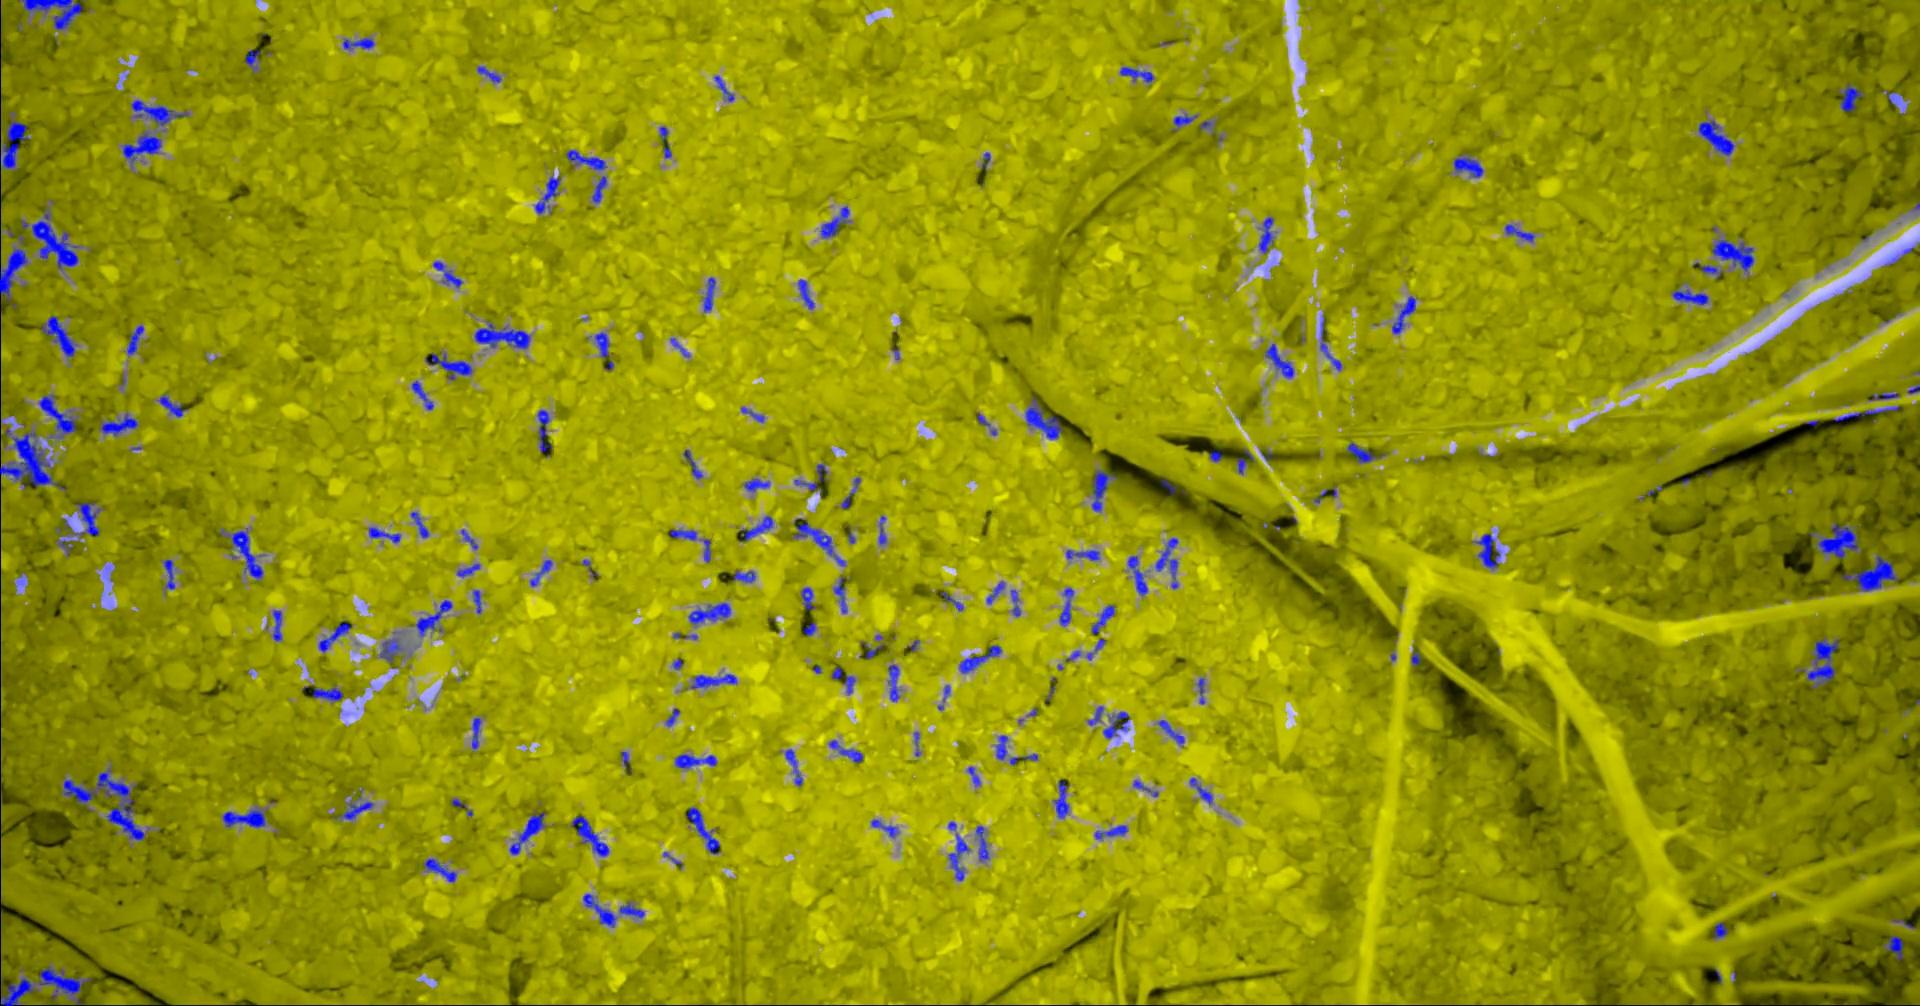ant: (792, 518, 844, 565), (1841, 554, 1897, 591), (38, 967, 90, 1005), (22, 0, 83, 29), (38, 394, 76, 438), (231, 527, 264, 578), (0, 112, 28, 169), (1025, 396, 1062, 439), (686, 807, 719, 854), (1807, 638, 1837, 688), (0, 246, 27, 304), (571, 815, 608, 856), (509, 810, 543, 854), (1817, 522, 1858, 558), (474, 323, 530, 348), (41, 315, 74, 357), (131, 100, 187, 124), (1710, 239, 1752, 271), (1698, 119, 1735, 155), (415, 600, 451, 635), (63, 500, 100, 535), (957, 645, 1001, 673), (424, 353, 471, 379), (122, 132, 160, 163), (1319, 316, 1341, 370), (582, 893, 615, 927), (1156, 537, 1177, 588), (317, 620, 350, 652), (1091, 470, 1116, 511), (1832, 405, 1898, 420), (1263, 343, 1293, 377), (0, 977, 36, 1005), (535, 175, 560, 213), (949, 833, 969, 880), (820, 206, 850, 238), (738, 514, 772, 541), (688, 602, 730, 624), (1390, 296, 1415, 333), (99, 412, 137, 434), (566, 149, 606, 170), (1476, 533, 1500, 568), (432, 260, 462, 287), (423, 857, 456, 882), (222, 809, 265, 827), (1128, 555, 1147, 594), (828, 741, 862, 762), (690, 673, 737, 688), (1347, 442, 1382, 462), (339, 799, 373, 819), (1102, 711, 1128, 738), (783, 749, 803, 785), (159, 392, 187, 417), (830, 666, 855, 694), (536, 409, 551, 452), (1157, 719, 1183, 743), (1839, 83, 1862, 111), (1091, 605, 1114, 633), (674, 753, 716, 768), (411, 380, 433, 409), (1453, 156, 1483, 177), (1189, 777, 1211, 804), (841, 478, 860, 508), (1053, 780, 1068, 818), (530, 559, 551, 586), (1119, 66, 1153, 83), (683, 448, 702, 478), (378, 638, 400, 663), (1503, 224, 1534, 241), (590, 332, 610, 359), (1059, 587, 1073, 625), (368, 526, 400, 542), (126, 325, 143, 354), (1258, 216, 1272, 253), (714, 75, 733, 102), (1672, 290, 1708, 304), (833, 575, 846, 614), (975, 826, 989, 860), (410, 511, 428, 537), (1693, 262, 1721, 278), (871, 819, 897, 837), (1886, 935, 1903, 960), (797, 279, 813, 309), (985, 580, 1004, 603), (940, 591, 963, 610), (1236, 448, 1253, 473), (888, 664, 899, 701), (1131, 780, 1157, 796), (1095, 826, 1128, 838), (590, 175, 606, 202), (703, 277, 715, 312), (342, 37, 373, 50), (477, 66, 502, 83), (618, 902, 644, 917), (1065, 549, 1098, 560), (743, 478, 770, 492), (312, 687, 342, 700), (740, 406, 764, 422), (163, 559, 174, 589), (800, 587, 814, 610), (1010, 753, 1037, 765), (1087, 706, 1103, 725), (669, 528, 696, 540), (244, 50, 259, 69), (1173, 113, 1196, 126), (456, 563, 479, 575), (471, 716, 480, 748), (731, 570, 756, 582), (996, 735, 1007, 760), (56, 539, 72, 555), (1010, 589, 1020, 616), (272, 610, 281, 640), (665, 708, 679, 727), (794, 479, 817, 490), (1161, 478, 1176, 494), (1712, 921, 1727, 937), (865, 644, 883, 658), (1868, 392, 1898, 400), (877, 514, 885, 544), (472, 589, 481, 614), (817, 464, 827, 481), (803, 622, 815, 635), (1197, 677, 1204, 702), (1209, 450, 1222, 461), (703, 539, 710, 561), (1411, 652, 1420, 666), (0, 14, 1, 65)
